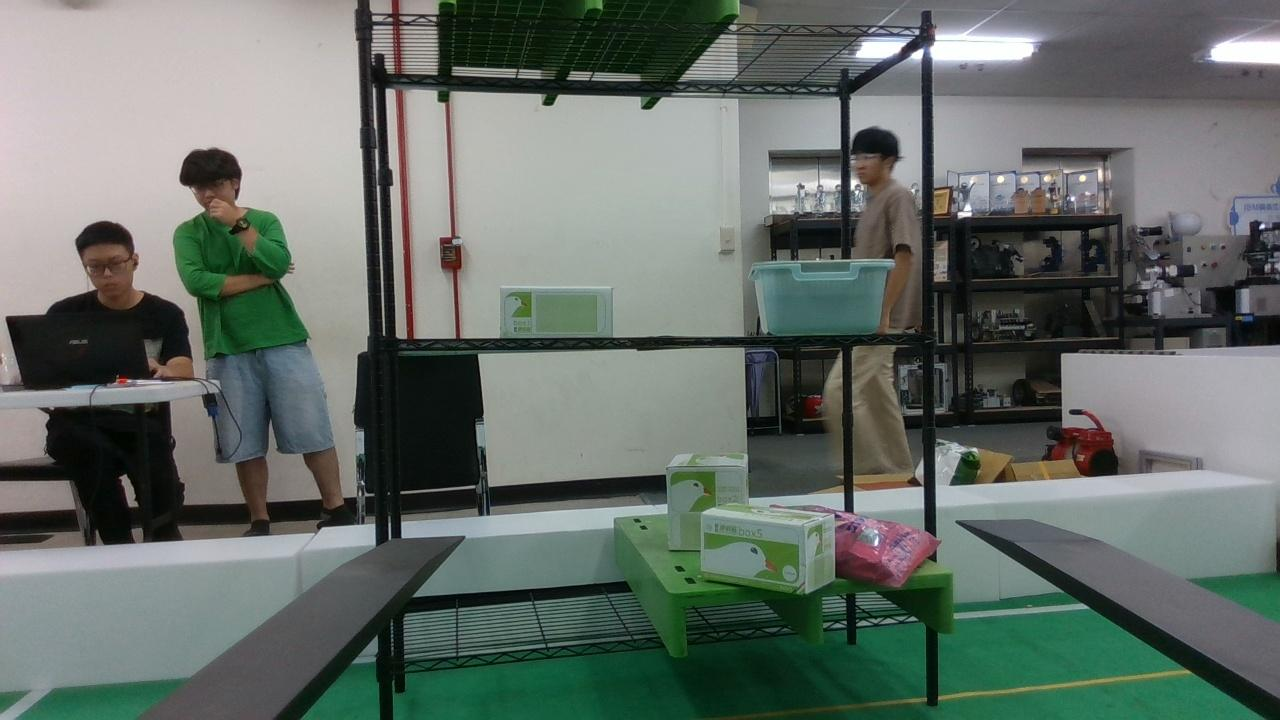Pallet: (670, 573, 954, 656)
